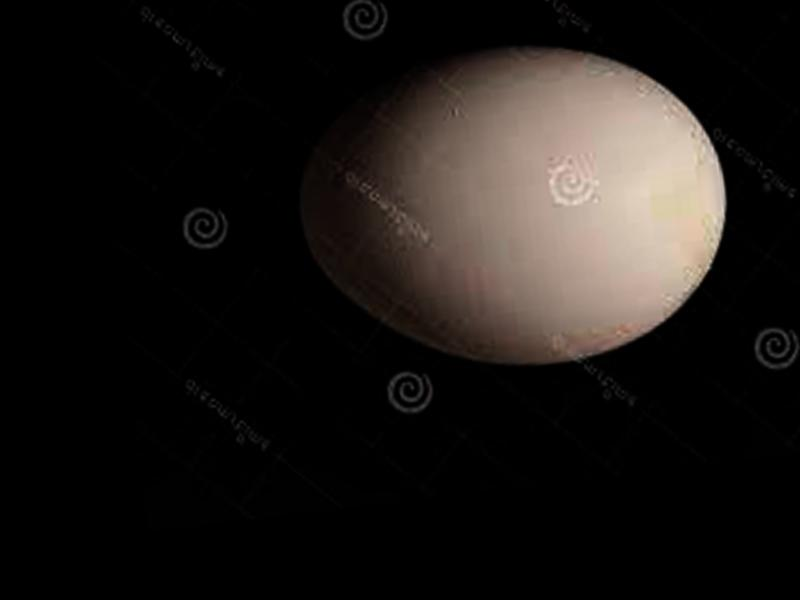Eggs: (281, 22, 747, 391)
